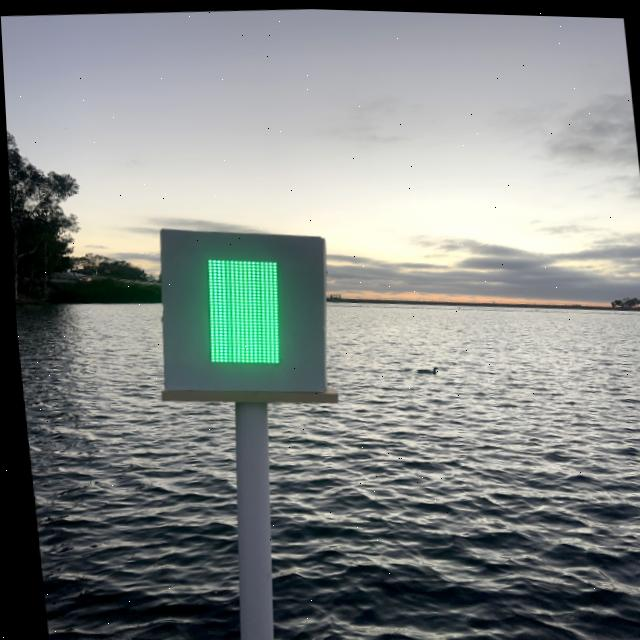led: (172, 228, 307, 393)
